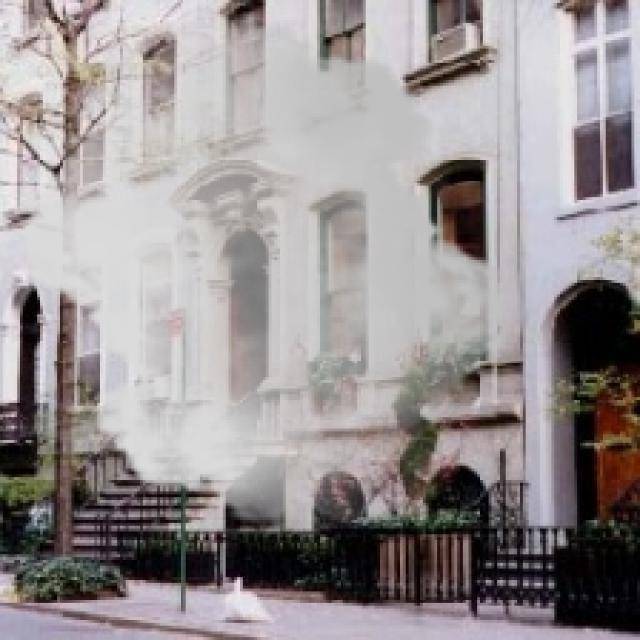smoke: (0, 12, 529, 534)
